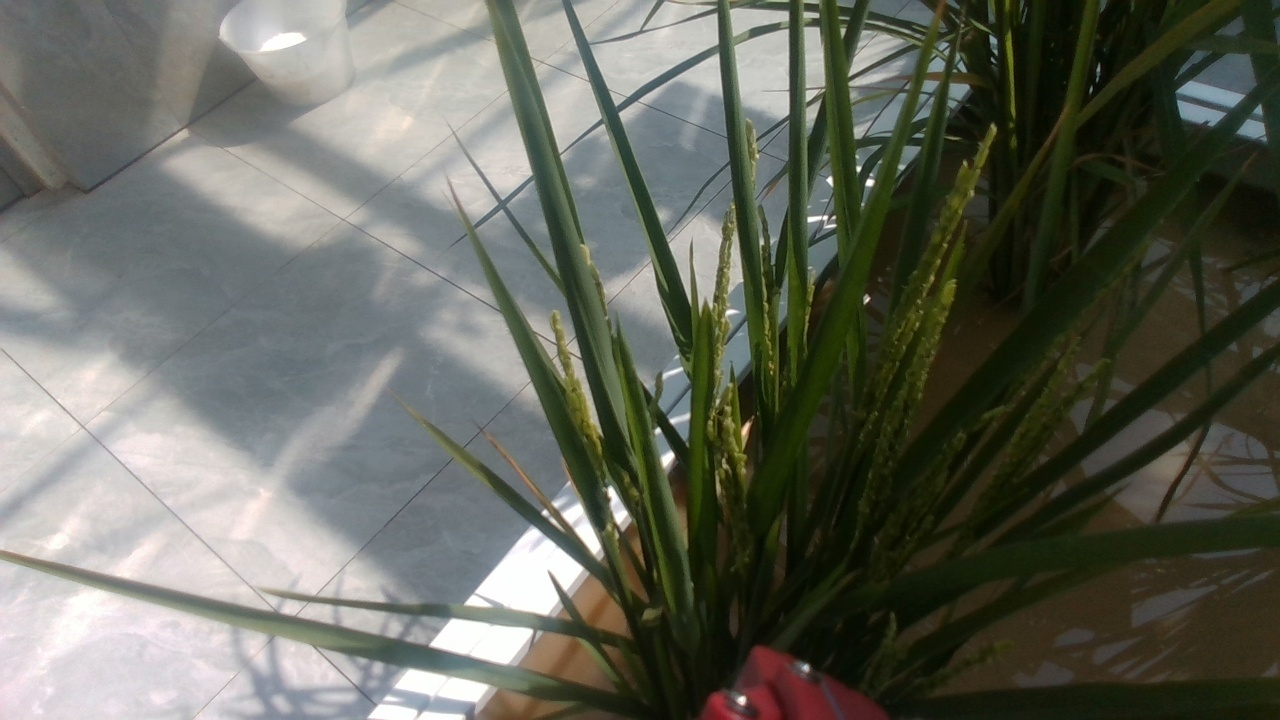panicle: (899, 125, 1007, 269), (996, 352, 1102, 467), (899, 282, 968, 426), (540, 303, 596, 424), (700, 200, 737, 341), (702, 380, 747, 488)
